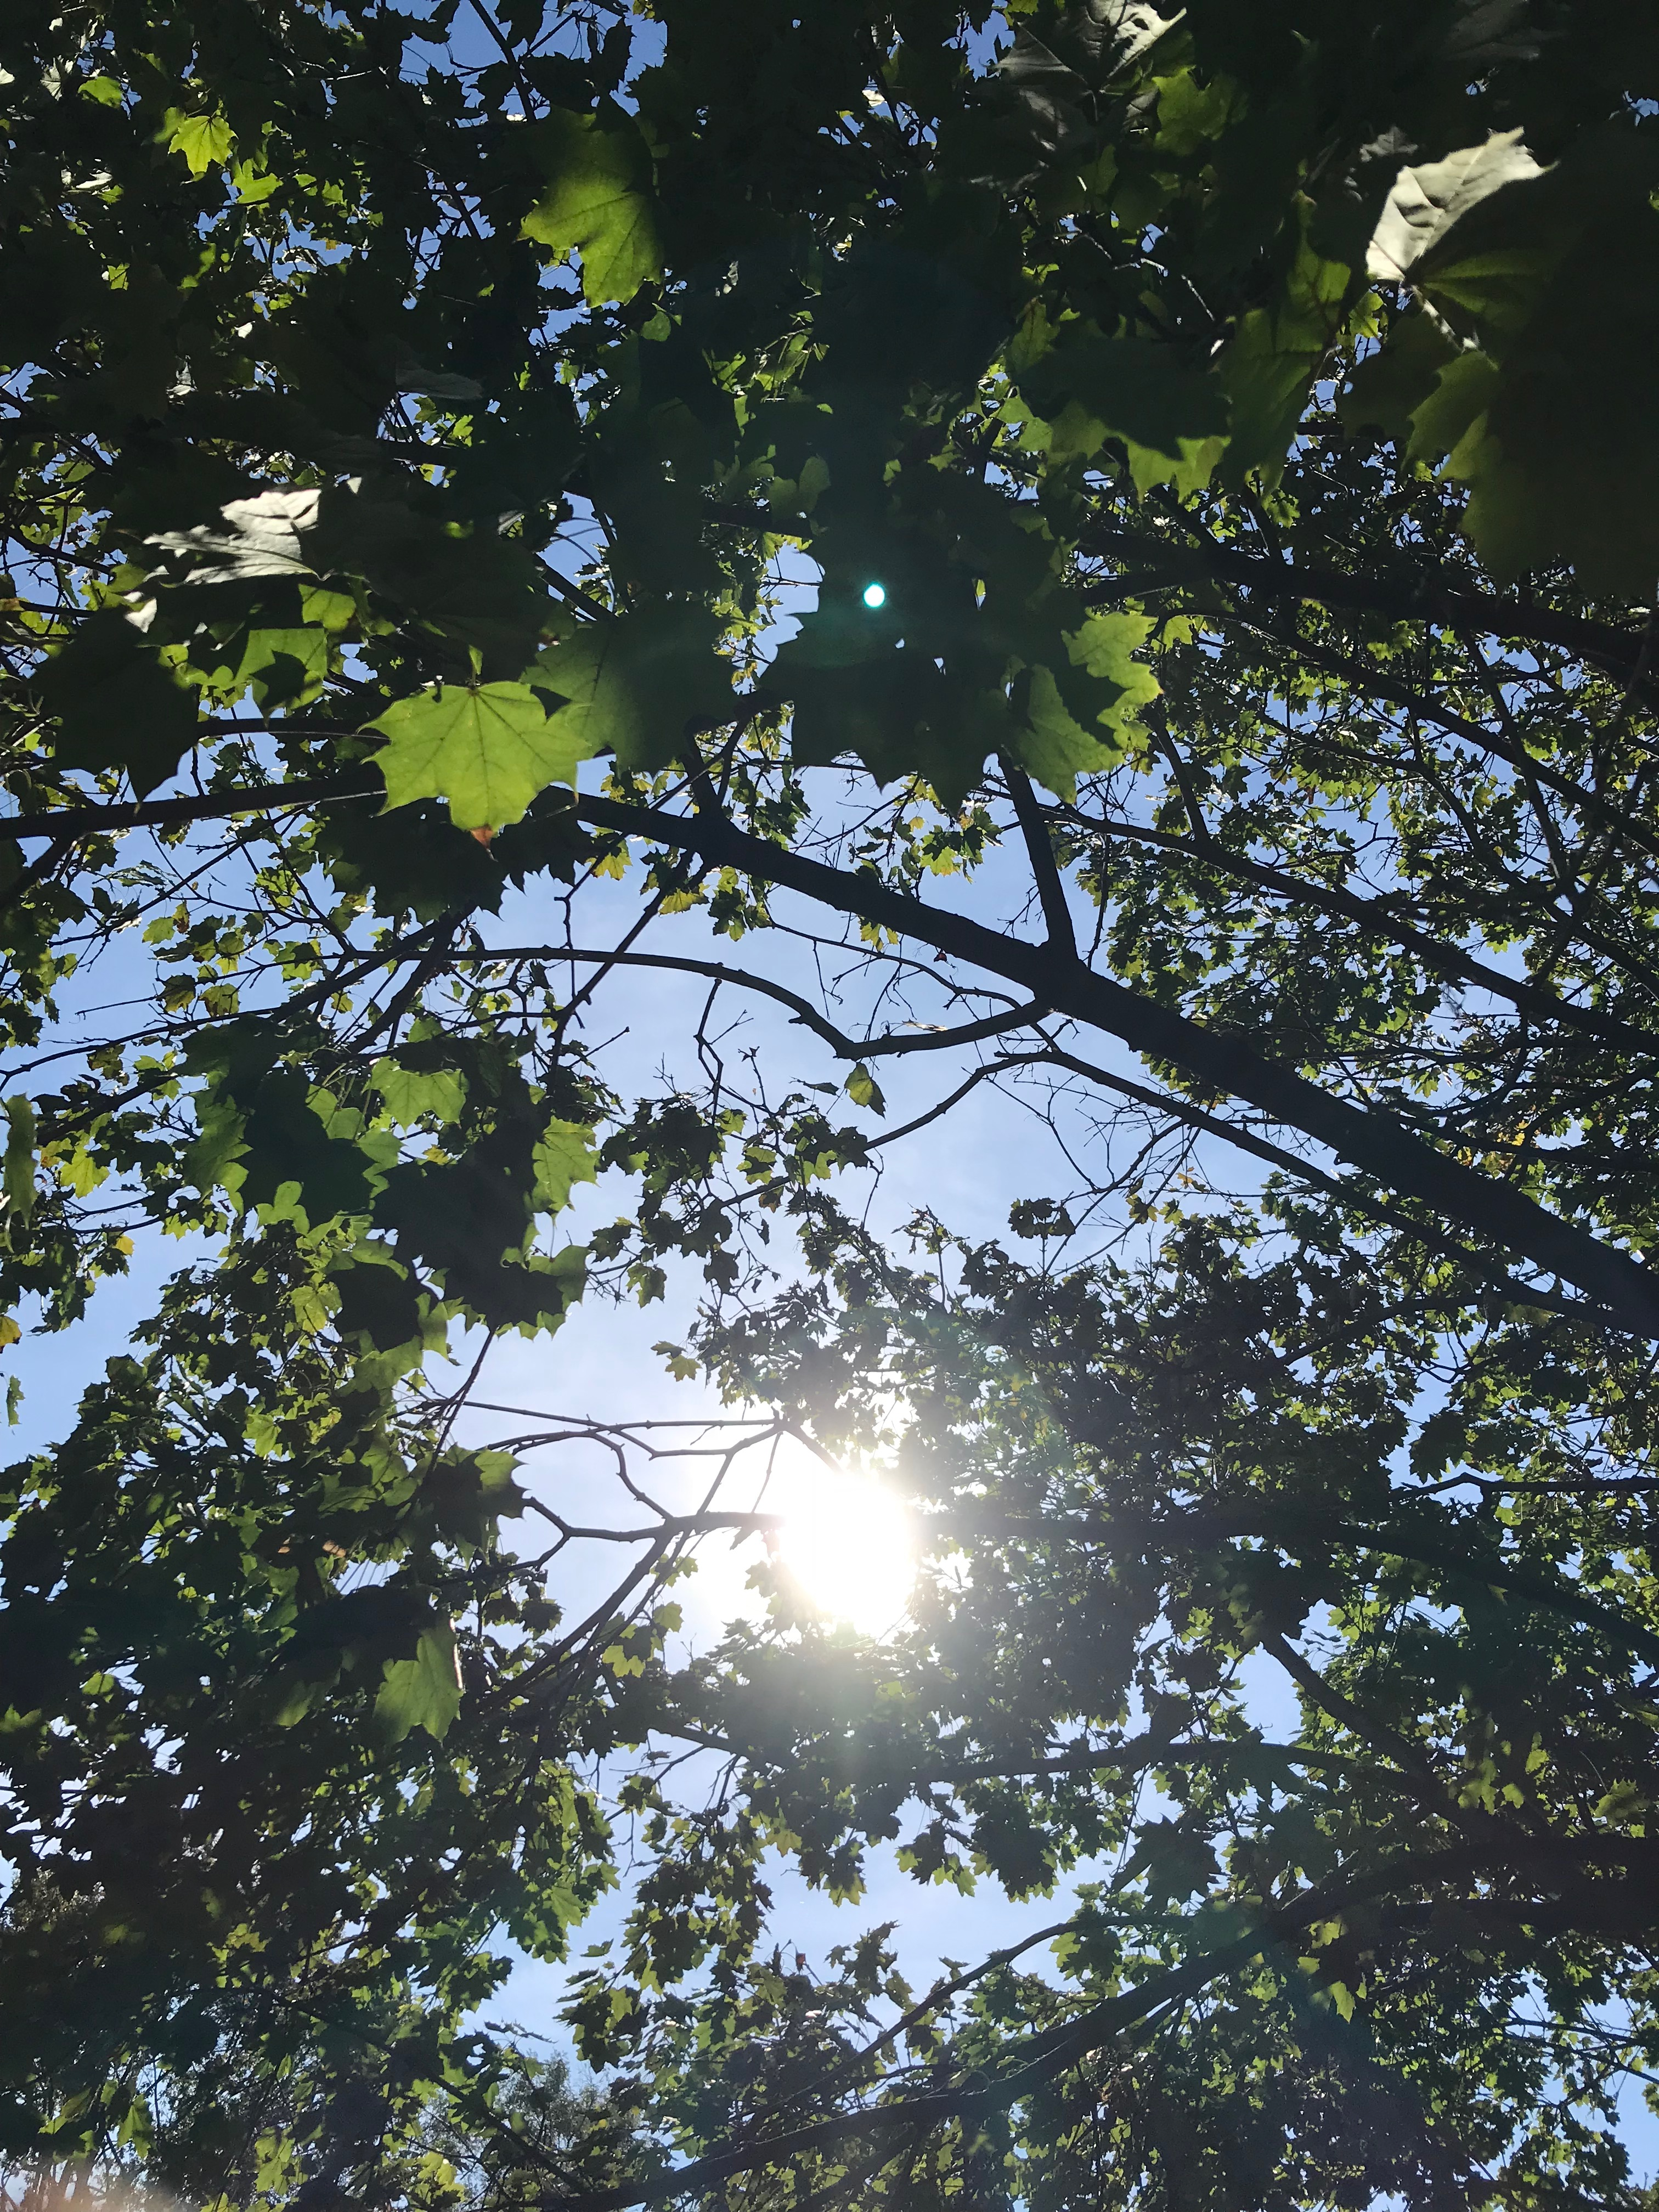flare: (863, 582, 889, 611)
